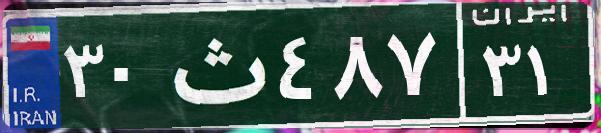0: (110, 28, 158, 105)
1: (525, 38, 570, 115)
3: (57, 26, 110, 107), (475, 38, 525, 113)
4: (273, 28, 330, 110)
7: (385, 28, 445, 110)
8: (330, 28, 385, 110)
ث: (158, 15, 273, 115)
